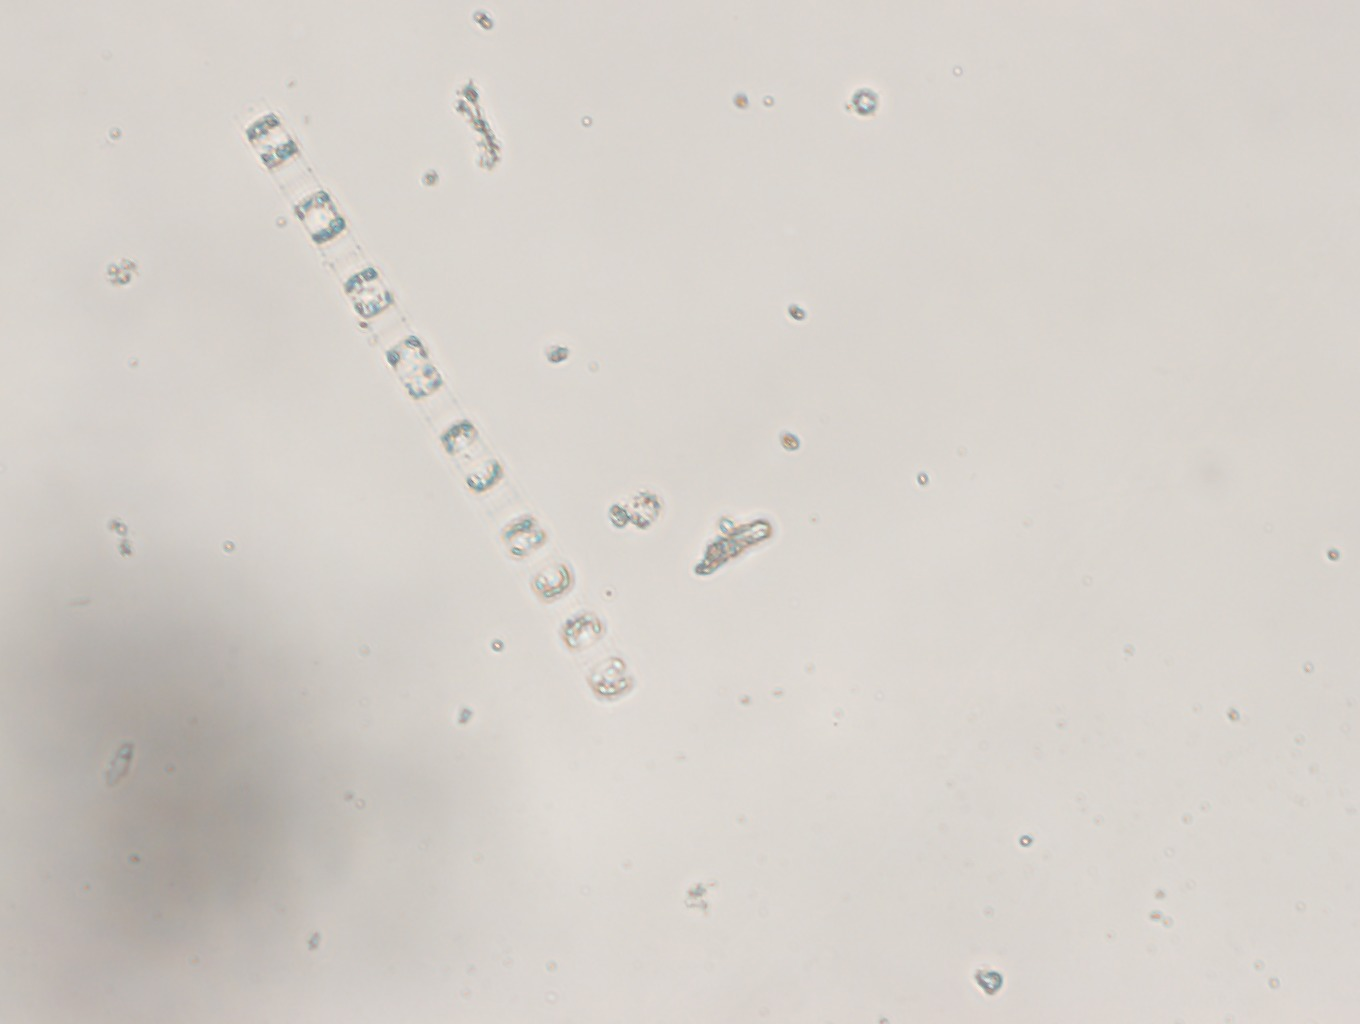skeletonema: (219, 99, 655, 710)
